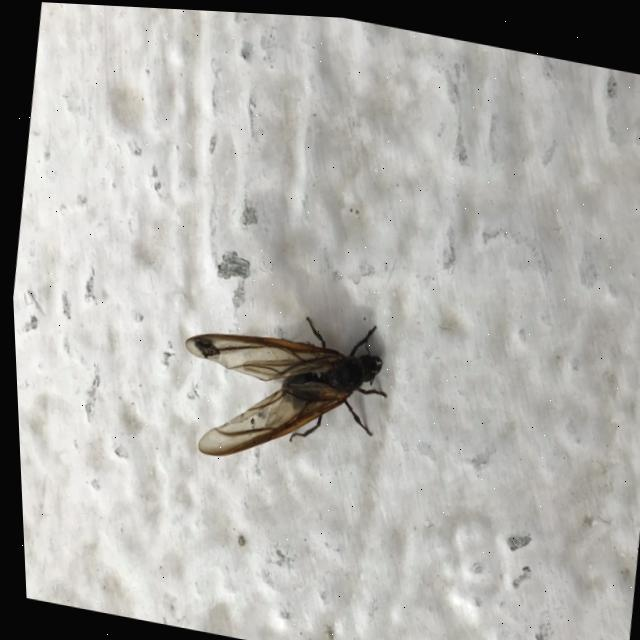Alive-Female-Alate: (166, 288, 396, 485)
